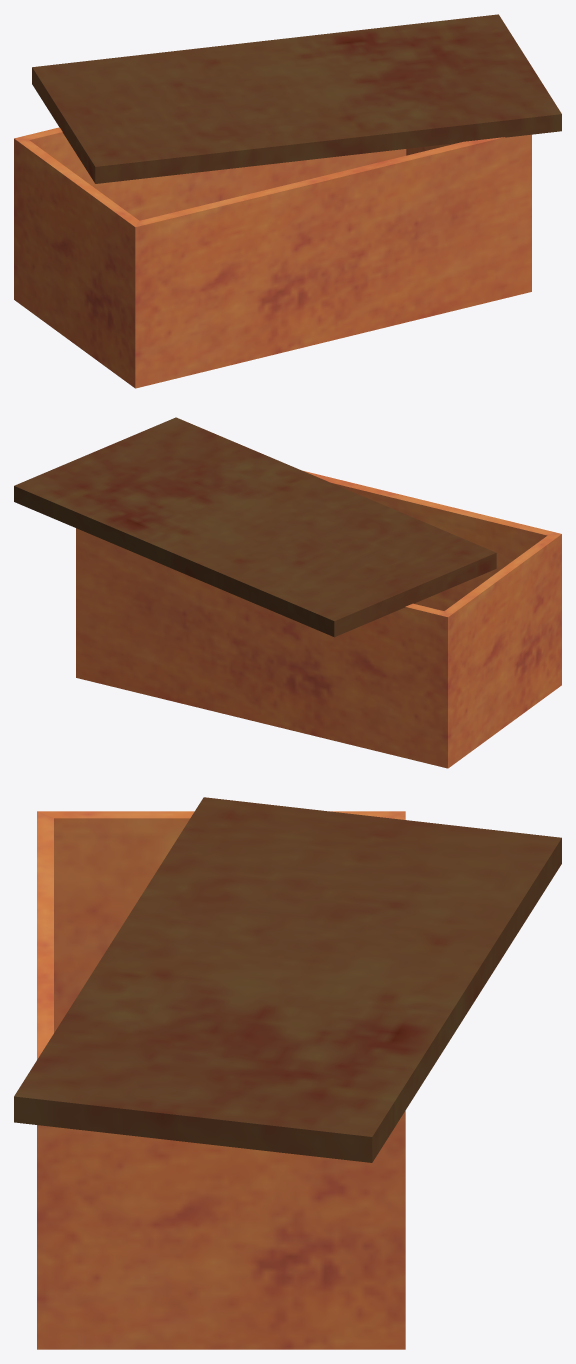
Rendered from SM_PropBox.FBX.
3 views of the same model, one above another, from view 1: azimuth 30°, elevation 25°; view 2: azimuth 150°, elevation 25°; view 3: azimuth 270°, elevation 25° (orthographic). The views are drawn at different scales.
Visible parts, largest first — view 1: PropBox; view 2: PropBox; view 3: PropBox.
Boxes of the visible parts, x1,y1,x2,y2 form: PropBox: (14,14,561,388); PropBox: (14,417,561,768); PropBox: (14,797,561,1349).
Bounding box in the file's own units: 131 × 46.96 × 86.41.
1 material, 1 textured.
